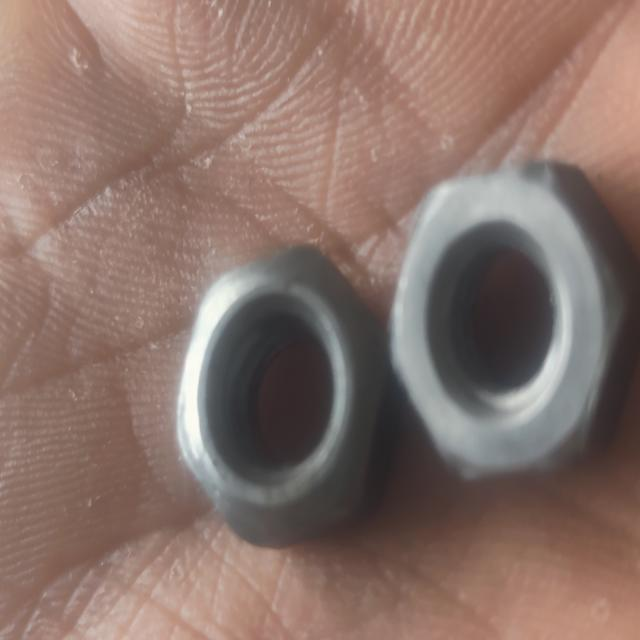disinfected nut: (390, 163, 640, 480), (178, 247, 392, 547)
